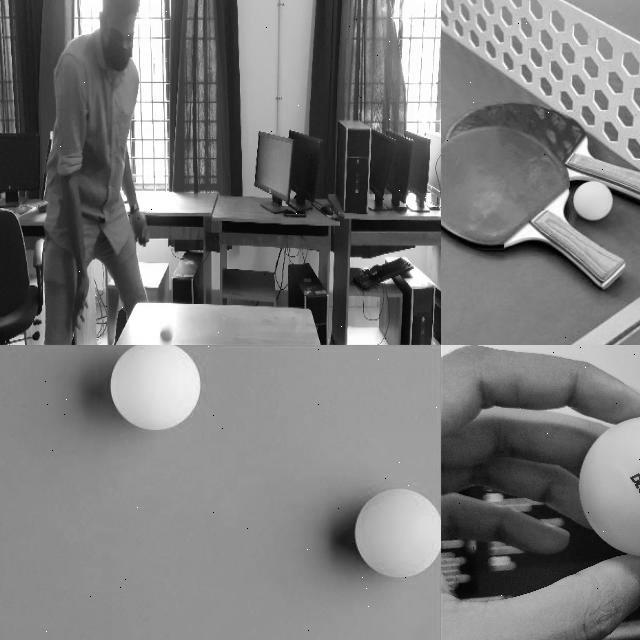ping-pong-ball: (578, 418, 639, 557), (109, 343, 202, 431), (356, 491, 440, 576), (572, 180, 612, 218), (160, 324, 174, 344)
